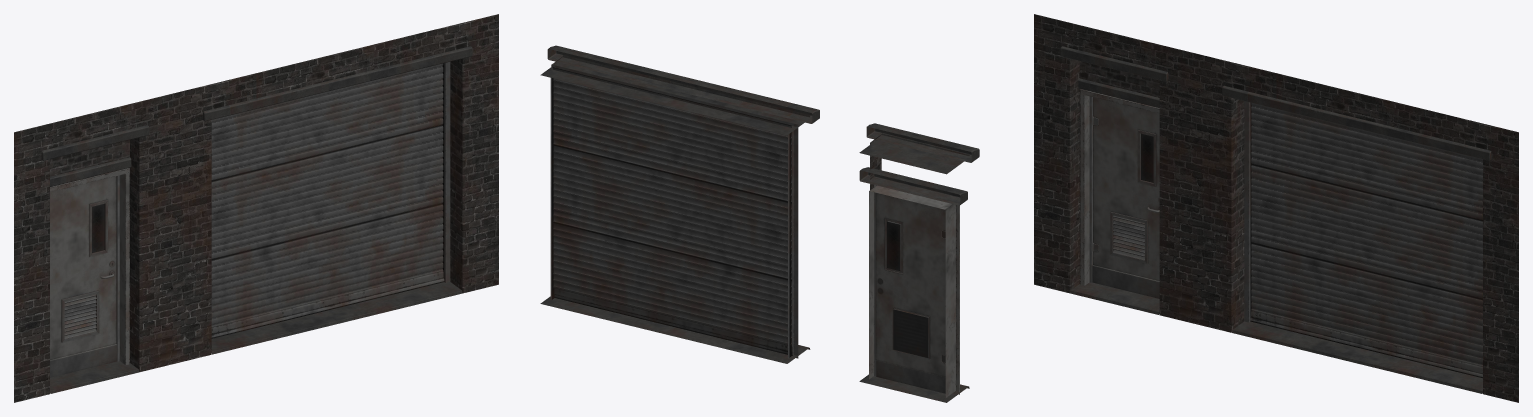
File: wall_bay.glb
3 views of the same model, side by side, from view 1: azimuth 30°, elevation 25°; view 2: azimuth 150°, elevation 25°; view 3: azimuth 330°, elevation 25° (orthographic).
Visible parts, largest first — view 1: wall_bay; view 2: wall_bay; view 3: wall_bay.
Part boxes in pixels (x1=…): wall_bay: x1=14, y1=14, x2=498, y2=402; wall_bay: x1=540, y1=45, x2=979, y2=402; wall_bay: x1=1034, y1=14, x2=1518, y2=402.
Size of the model in its own units: 6 by 3.2 by 0.53.
Materials: 4 (4 with a texture image).
